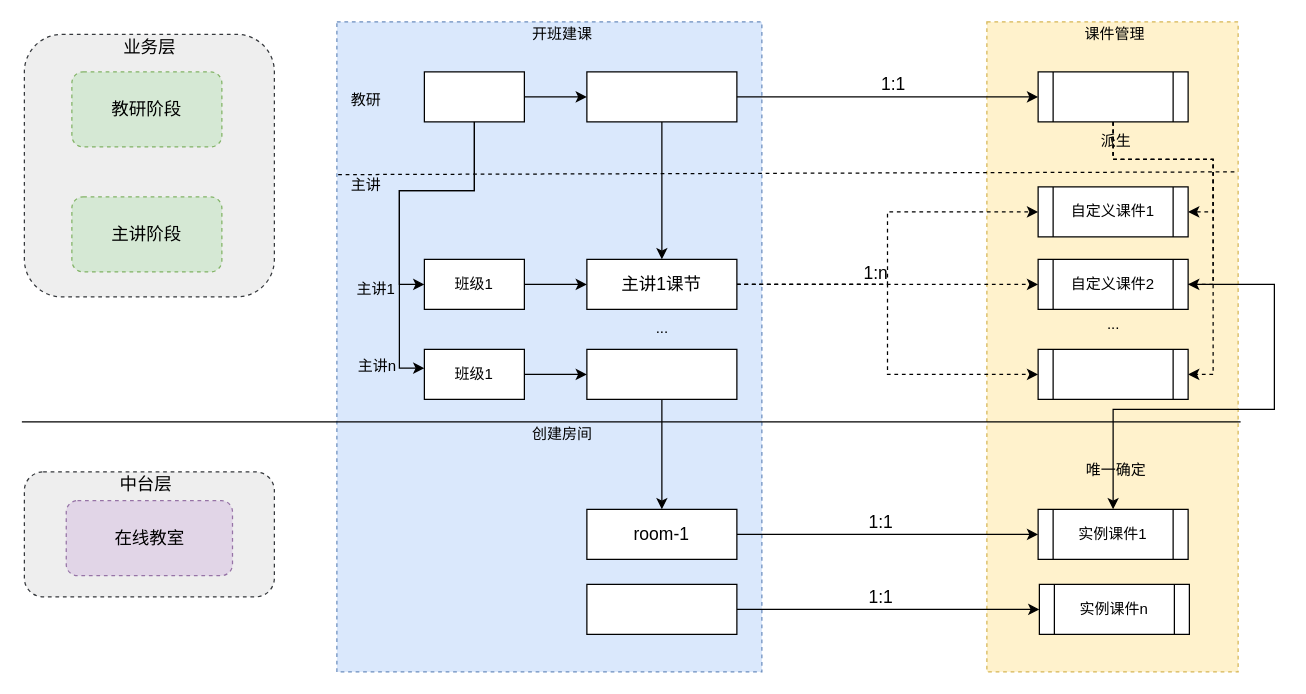
Some shapes in this 1306 by 694 pixel diagram are drawn without their labels. The centre of each missing label's shape, as x and y in pixels:
"room-n" belongs at point (661, 608).
"主讲n课节" belongs at point (661, 373).
"标准课件" belongs at point (1112, 96).
"标准课节" belongs at point (661, 96).
"自定义课件n" belongs at point (1112, 373).
"课程" belongs at point (473, 96).
